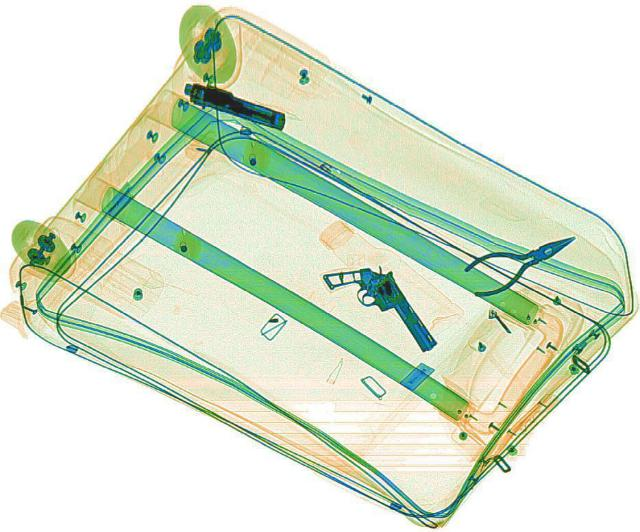Gun: (316, 251, 438, 365), (175, 77, 292, 131)
Pliers: (453, 218, 589, 300)
